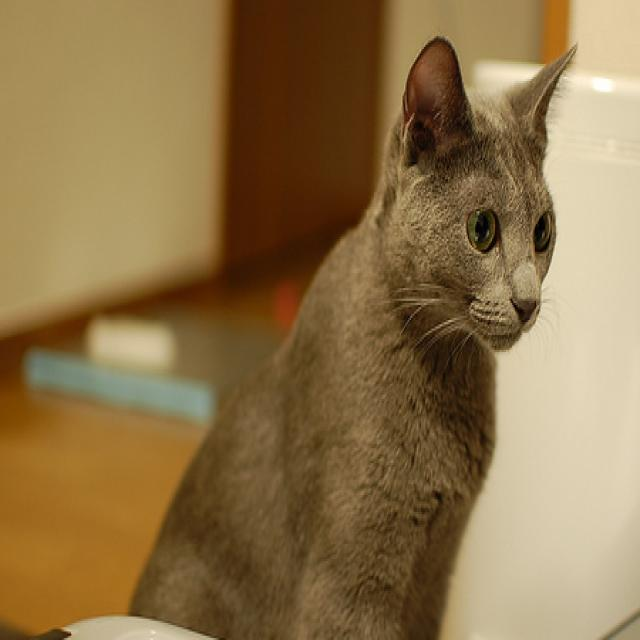Russian Blue: (126, 27, 581, 640)
